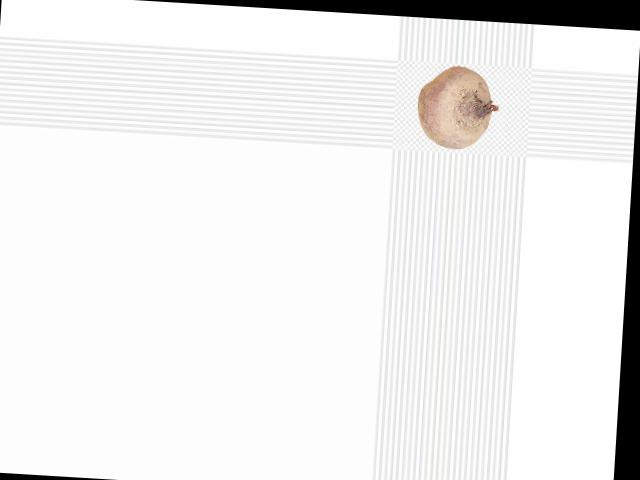beet: (415, 64, 501, 150)
